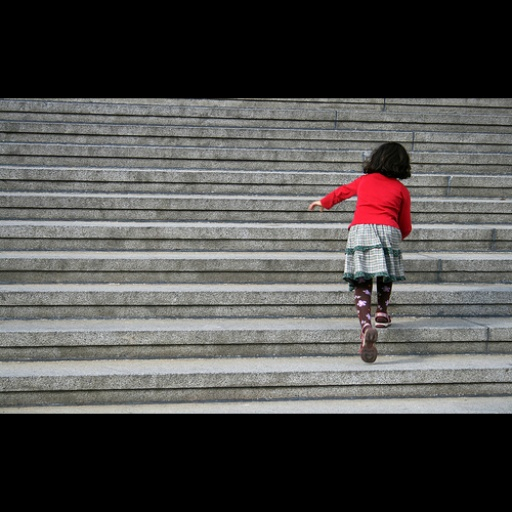Stairs: (0, 100, 512, 412)
